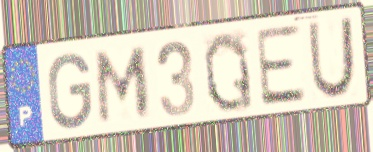3: (155, 39, 196, 118)
E: (252, 22, 309, 110)
G: (46, 50, 94, 132)
M: (95, 44, 152, 127)
Q: (201, 29, 256, 115)
U: (306, 14, 358, 101)
